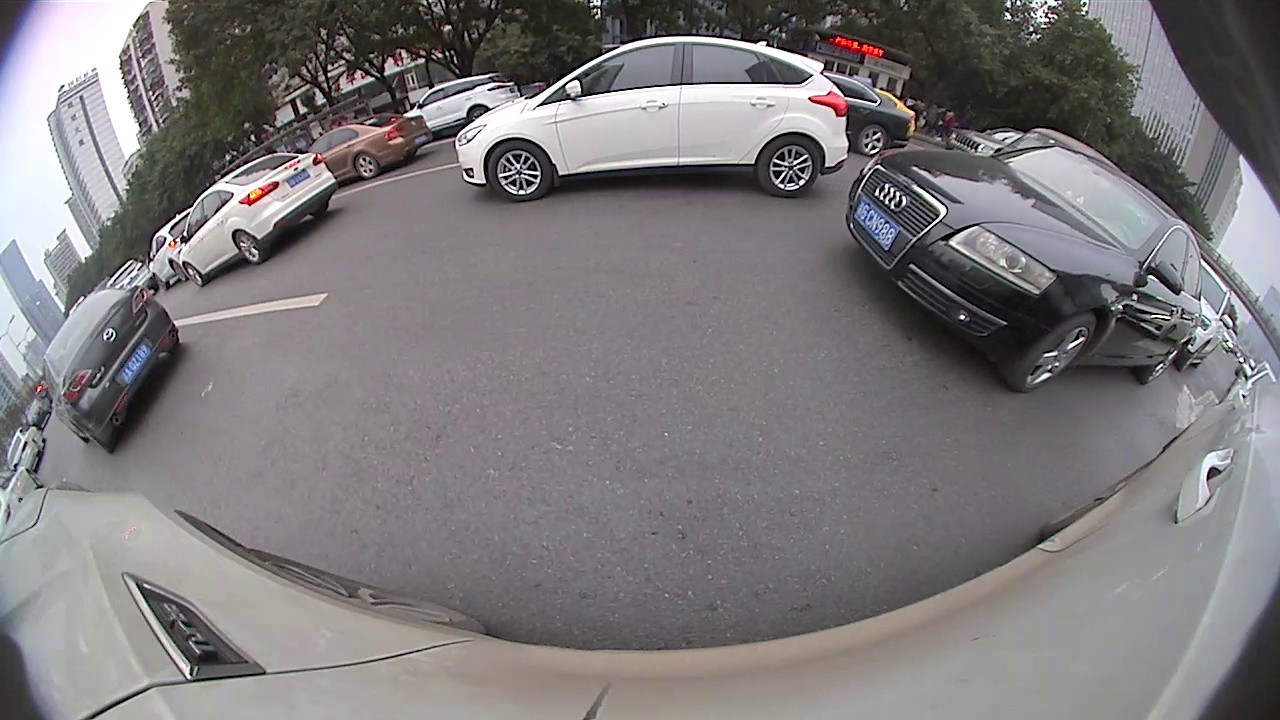car: (843, 143, 1205, 391), (451, 34, 847, 202), (42, 284, 182, 456), (174, 151, 342, 288), (809, 68, 918, 154), (299, 114, 433, 183), (1170, 247, 1235, 374), (403, 72, 522, 140), (3, 426, 46, 473)
front: (1013, 312, 1097, 396), (488, 139, 554, 202), (183, 264, 206, 289)
rear: (755, 133, 822, 197), (1143, 342, 1183, 386), (234, 232, 265, 264), (860, 123, 888, 155), (353, 153, 380, 178), (172, 262, 186, 282)
